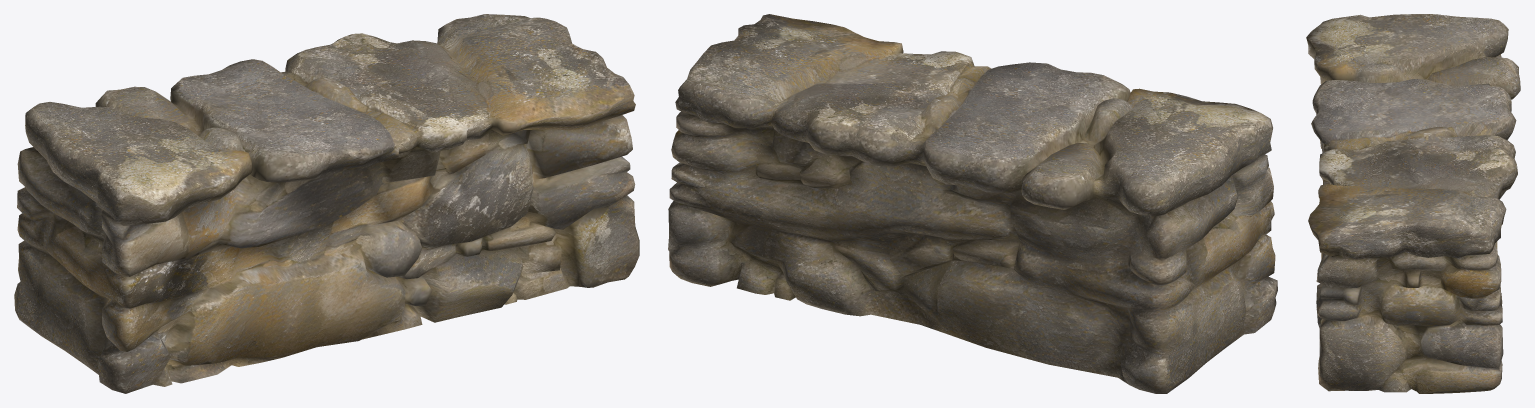
The model's file is stone-wall.glb.
3 views of the same model, side by side, from view 1: azimuth 30°, elevation 25°; view 2: azimuth 150°, elevation 25°; view 3: azimuth 270°, elevation 25° (orthographic). The views are drawn at different scales.
Parts seen in each view (by area): view 1: tripo_node_110db607-82c8-45d8-889e-8efc28a90caa; view 2: tripo_node_110db607-82c8-45d8-889e-8efc28a90caa; view 3: tripo_node_110db607-82c8-45d8-889e-8efc28a90caa.
Boxes of the visible parts, <box> form: tripo_node_110db607-82c8-45d8-889e-8efc28a90caa: <box>14,14,639,393</box>; tripo_node_110db607-82c8-45d8-889e-8efc28a90caa: <box>668,14,1277,393</box>; tripo_node_110db607-82c8-45d8-889e-8efc28a90caa: <box>1306,14,1520,393</box>.
Bounding box in the file's own units: 0.9995 × 0.394 × 0.4312.
Materials: 1 (1 with a texture image).
